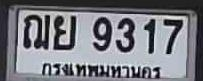1: (143, 18, 154, 53)
3: (115, 17, 134, 52)
7: (163, 18, 182, 53)
9: (92, 16, 111, 50)
A12: (22, 13, 50, 49)
A34: (52, 14, 76, 49)
BKK: (40, 58, 165, 80)
